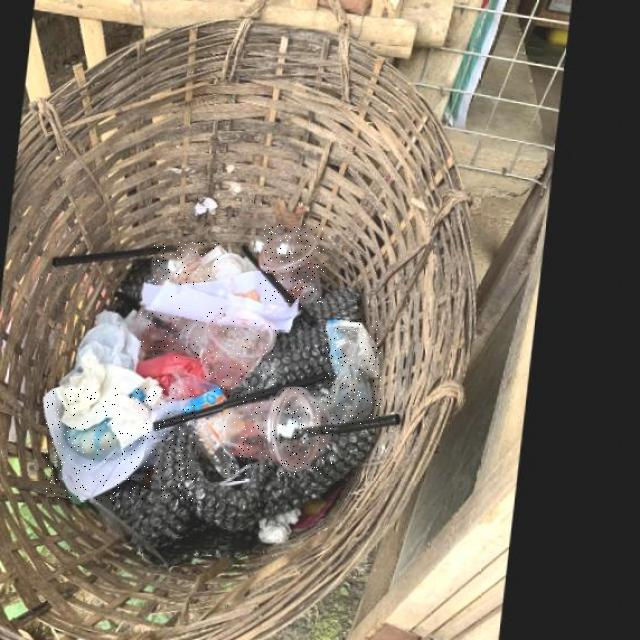paper: (46, 389, 195, 501), (145, 272, 303, 331)
plastic: (223, 387, 334, 475), (205, 307, 278, 394), (324, 319, 381, 424), (261, 225, 324, 303), (138, 307, 211, 358), (154, 243, 219, 285)
